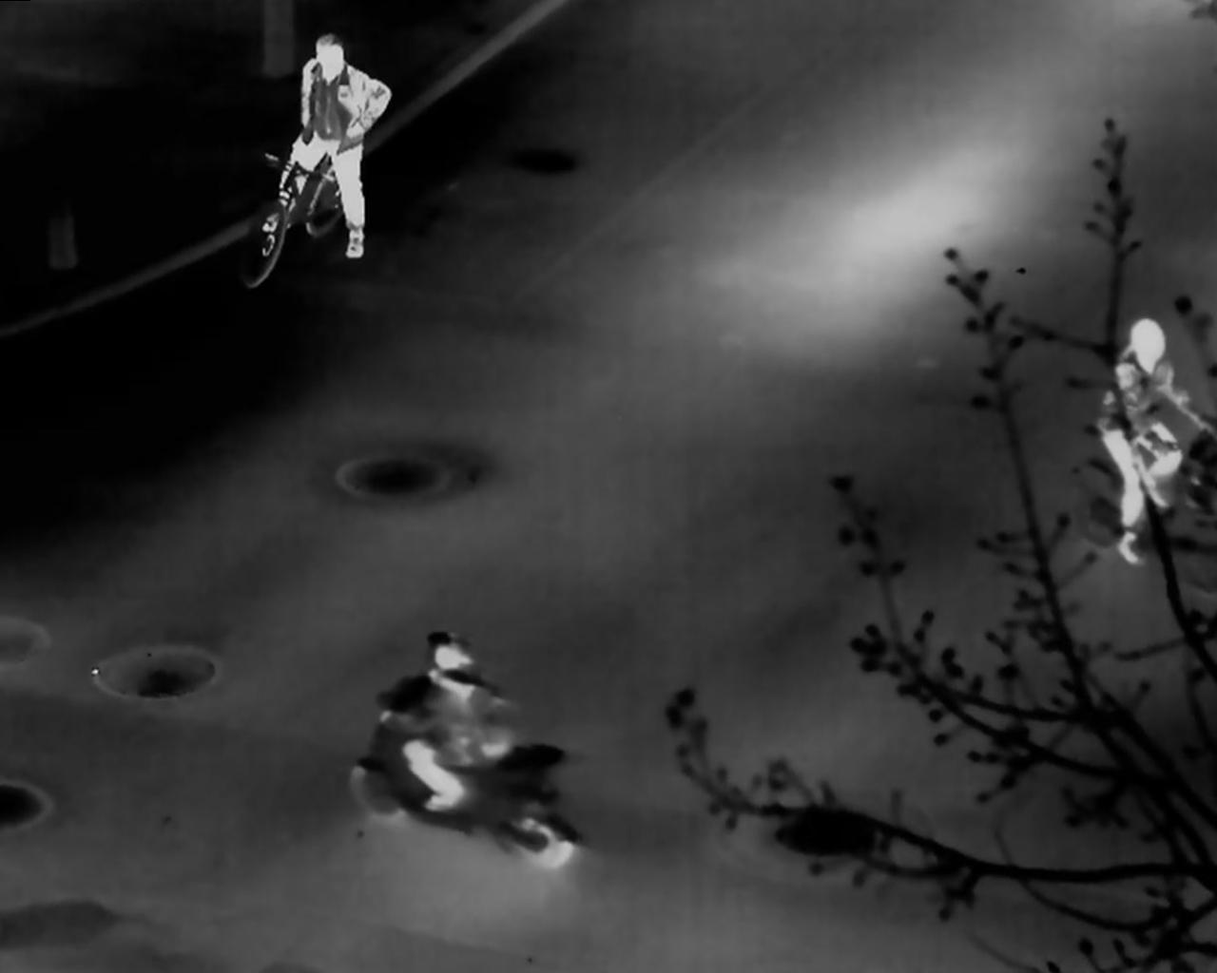person: (1093, 315, 1214, 566), (272, 32, 392, 258), (400, 633, 517, 812)
